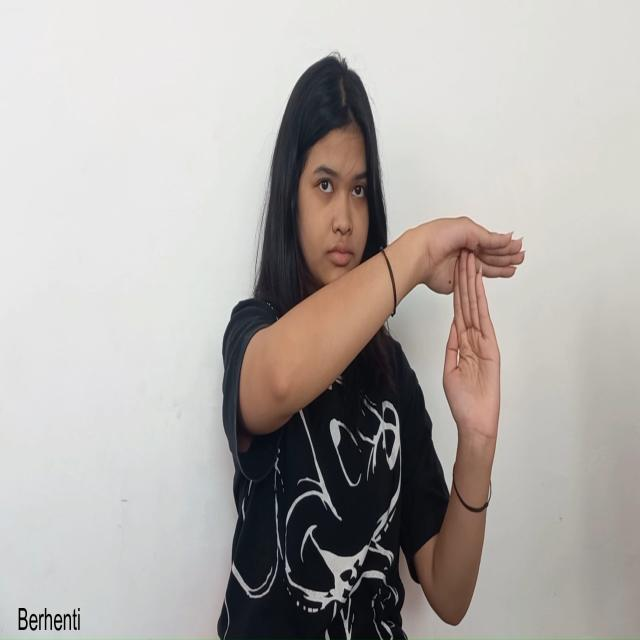Berhenti -BISINDO-: (406, 213, 527, 455)
